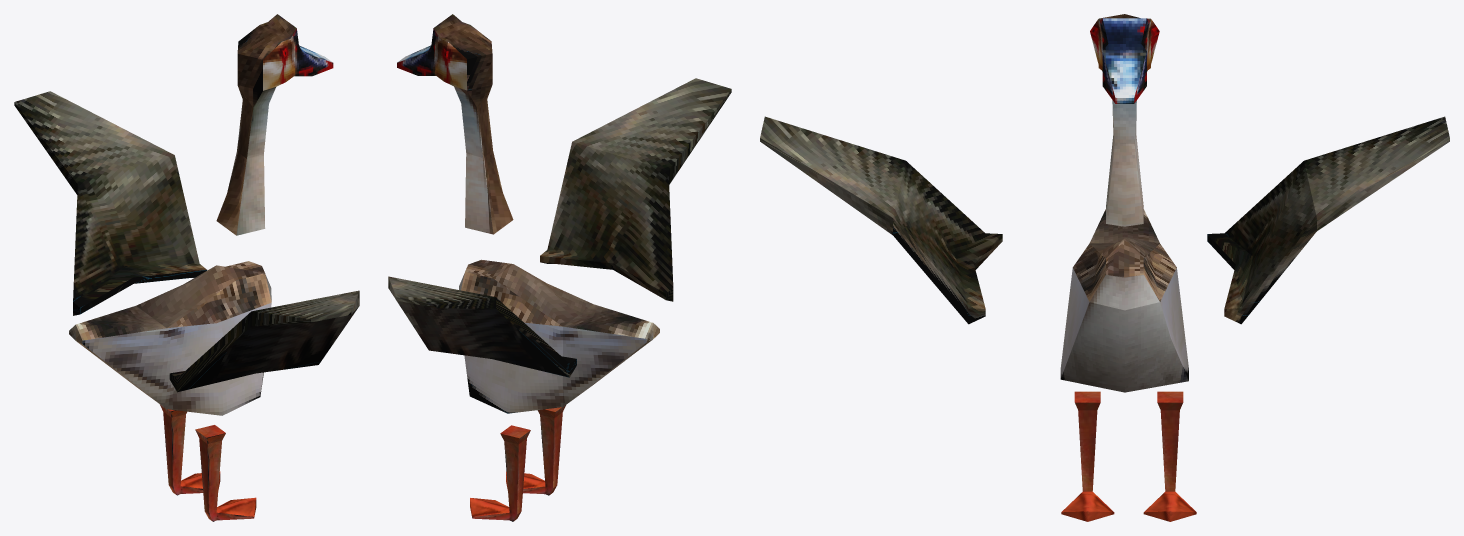
3 views of the same model, side by side, from view 1: azimuth 30°, elevation 25°; view 2: azimuth 150°, elevation 25°; view 3: azimuth 270°, elevation 25° (orthographic). The views are drawn at different scales.
Visible parts, largest first — view 1: wing_L, body, head, wing_R, leg_R, leg_L; view 2: wing_R, body, head, wing_L, leg_L, leg_R; view 3: body, wing_R, wing_L, head, leg_R, leg_L.
Boxes of the visible parts, x1,y1,x2,y2 form: wing_L: [14, 91, 207, 315]; body: [69, 261, 271, 415]; head: [216, 14, 333, 235]; wing_R: [169, 290, 359, 392]; leg_R: [195, 425, 256, 521]; leg_L: [160, 404, 220, 495]; wing_R: [540, 78, 731, 301]; body: [459, 259, 659, 413]; head: [397, 14, 513, 234]; wing_L: [388, 276, 576, 377]; leg_L: [470, 425, 530, 521]; leg_R: [506, 405, 565, 495]; body: [1060, 209, 1188, 392]; wing_R: [760, 116, 1002, 324]; wing_L: [1207, 116, 1449, 324]; head: [1090, 14, 1159, 226]; leg_R: [1061, 391, 1114, 521]; leg_L: [1143, 391, 1196, 521].
Size of the model in its own units: 1427 by 2500 by 2934.
4 materials, 4 textured.
